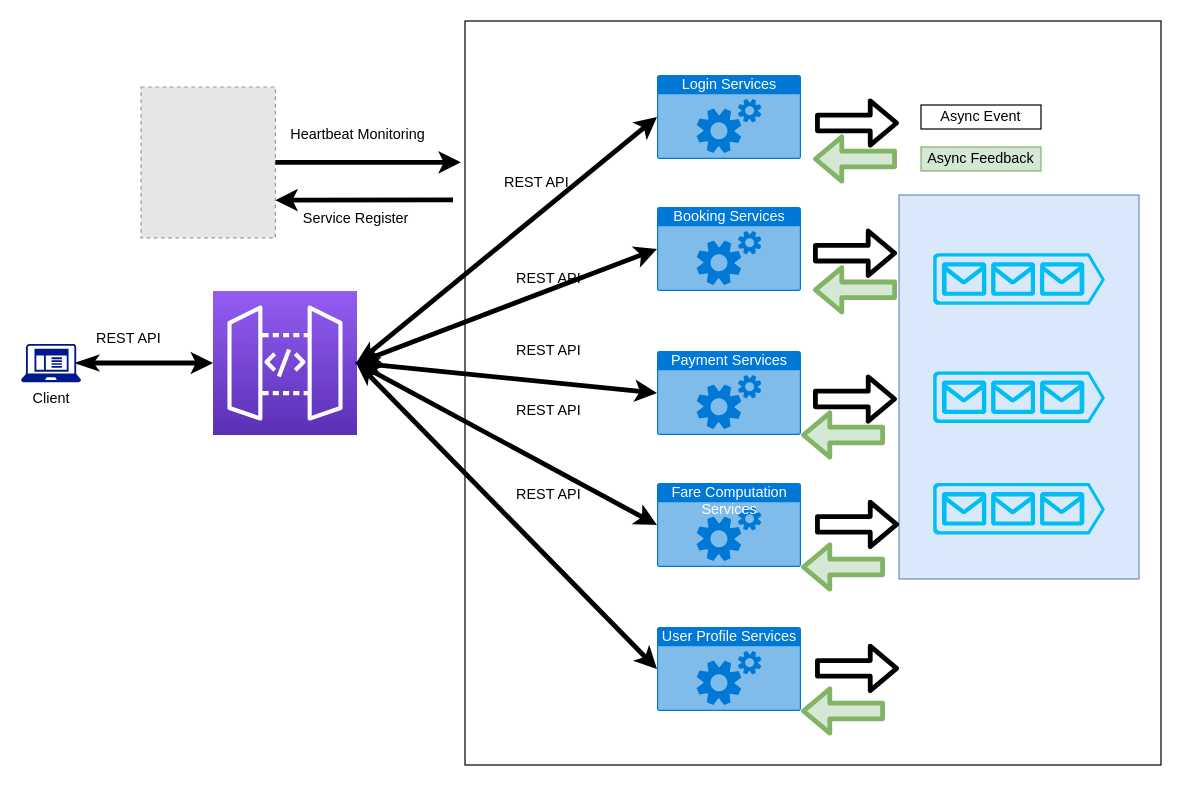
The diagram is 1182 pixels wide and 786 high, and some of its shapes have lost their labels. Grey dashed boxes stand in for pictures. Each missing label, with the box of its shape:
API Gateway: (212, 290, 357, 435)
Message Queue Cluster: (898, 194, 1139, 579)
